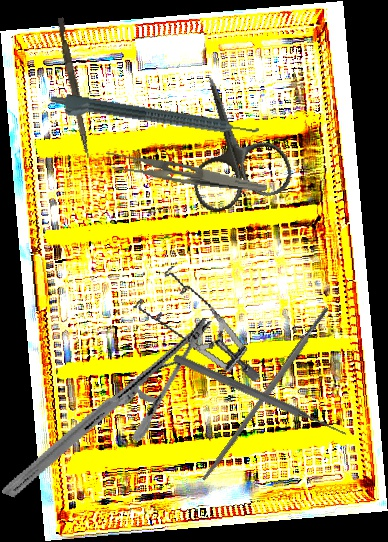Dressing Forceps: (104, 149, 269, 193)
Handpiece: (48, 91, 260, 148)
Iris Scissors: (164, 63, 297, 217)
Needle Holder: (1, 273, 214, 542)
Pusher: (171, 352, 350, 440), (53, 17, 96, 159)
Scalpel Handle: (200, 306, 332, 483)
Speculum: (124, 251, 262, 409)
